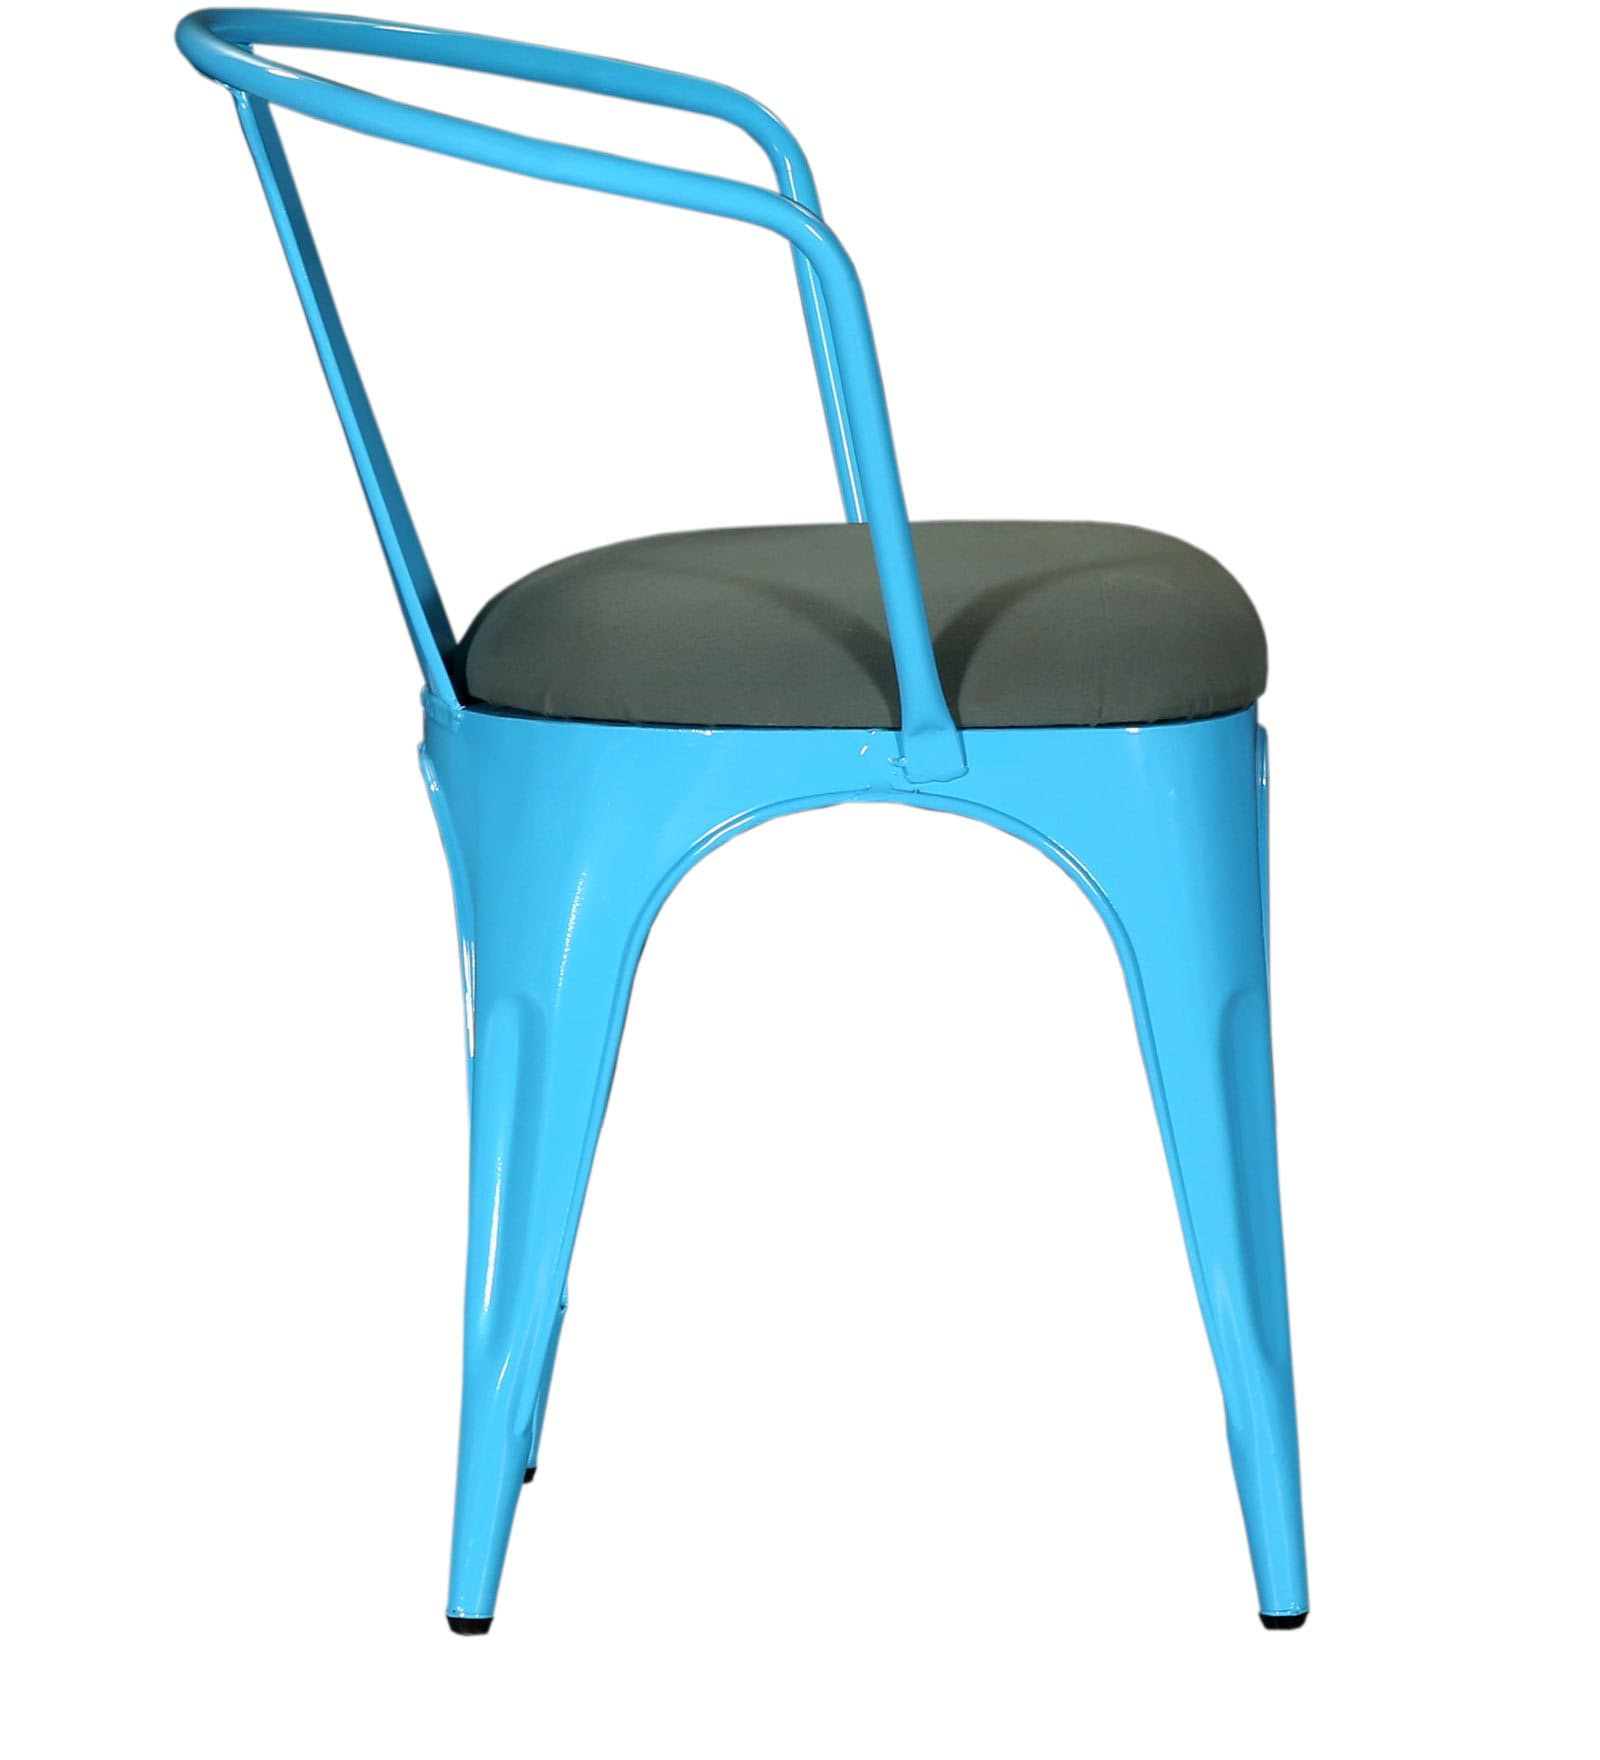Danlou Metal Chair with Cushion in Blue Colour by Bohemiana: (141, 9, 1341, 1656)
